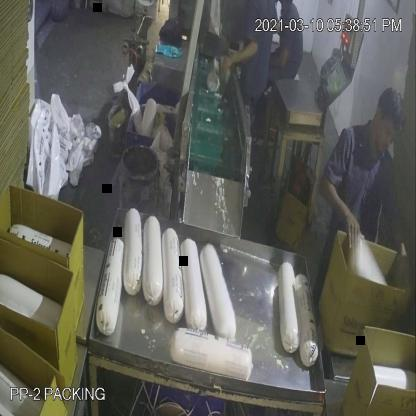no_glove: (318, 166, 367, 260), (384, 206, 416, 296), (217, 37, 265, 82)
